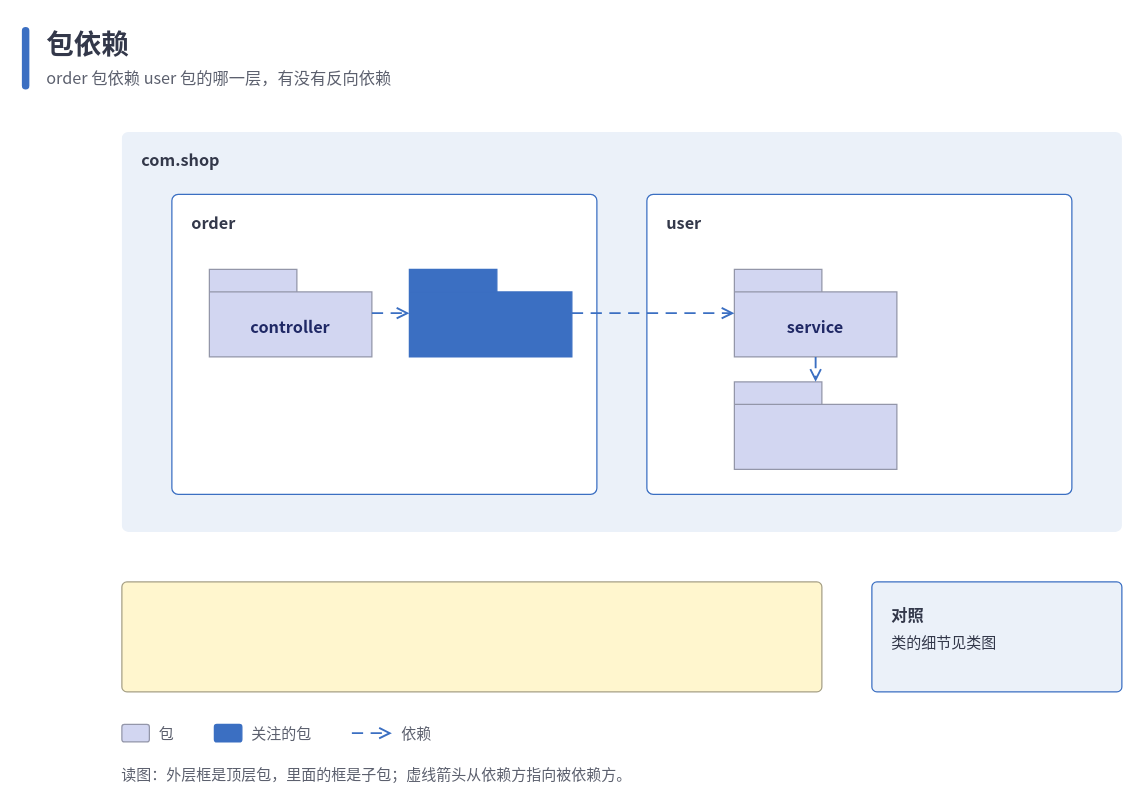
The diagram is 1144 pixels wide and 808 high, and some of its shapes have lost their labels. The centre of each missing label's shape, as x and y in pixels:
"repository" belongs at pixel 815 425.
"service 关注的包" belongs at pixel 490 312.
"规则 跨包只能依赖对方的 service，不能直接依赖 repository user 不依赖 order，避免循环" belongs at pixel 471 636.
